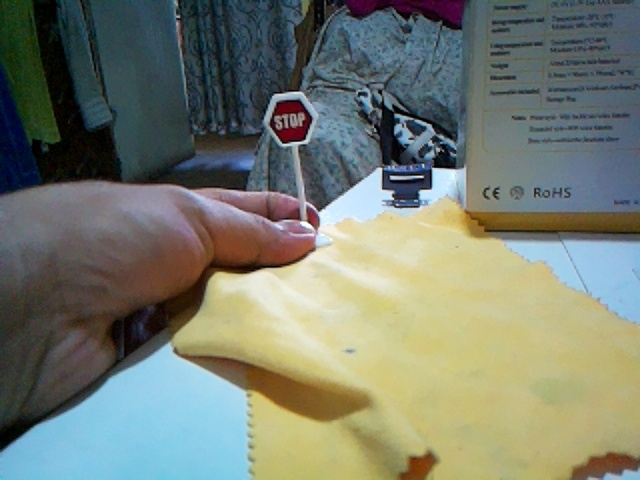stop_sign: (263, 92, 317, 145)
